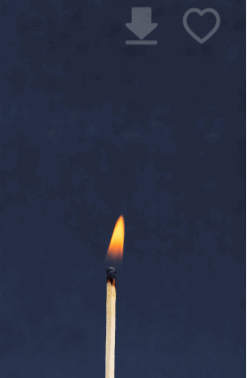Fire: (102, 204, 151, 281)
